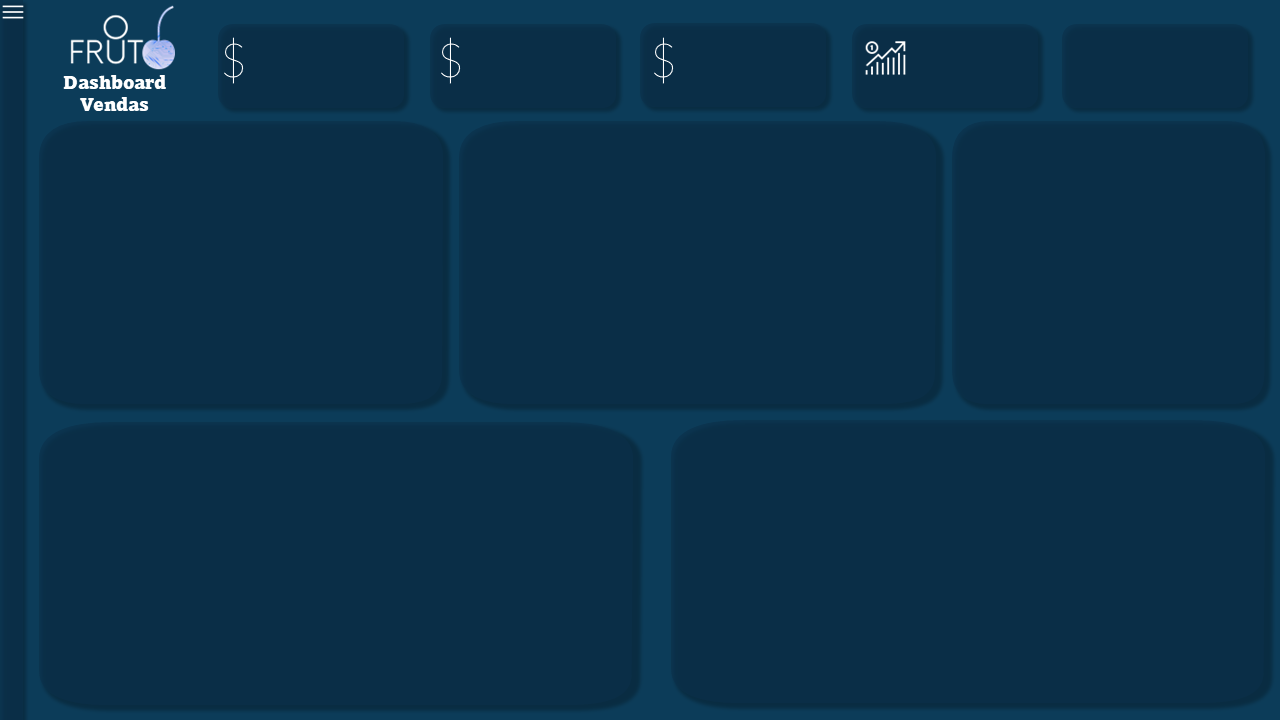

The dashboard page shown, as its layout file describes it:
{"tool":"powerbi","page":{"name":"Dash_geral","canvas":[1280,720],"ordinal":0},"visuals":[{"type":"clusteredBarChart","title":"Top 10 produtos por grupo em volume de vendas","fields":{"Category":["Dim_produtos.Grupo_Produto"],"Y":["Medidas.Total_itens_vendidos"]},"box":[48.1,133.2,385.9,271.9],"z":0},{"type":"clusteredColumnChart","title":"Volume de vendas por linha de produto (Qtd)","fields":{"Y":["Medidas.Volume_vendas"],"Category":["Dim_produtos.Linha_Produto"]},"box":[958.8,133.9,299.1,271.4],"z":1000},{"type":"lineStackedColumnComboChart","title":"Top 5 Grupo de Produtos por lucro em margem de venda (R$)","fields":{"Y":["Sum(Fato_vendas.Lucro_produto)"],"Category":["Dim_produtos.Grupo_Produto"]},"box":[465.7,134.5,465.7,271.4],"z":2000},{"type":"card","fields":{"Values":["Medidas.Faturamento"]},"box":[261.7,21.7,141.1,85.6],"z":3000},{"type":"card","fields":{"Values":["Medidas.Lucro"]},"box":[670.6,21.7,160.4,82],"z":4000},{"type":"kpi","title":"Margem de venda média","fields":{"Indicator":["Avg(Fato_vendas.Margem)"],"Goal":["Medidas.Meta_margem"],"TrendLine":["Tb_calendario.Date.Variation.Hierarquia de datas.Ano"]},"box":[1066.1,25.3,183.3,82],"z":5000},{"type":"card","fields":{"Values":["Medidas.Custo_total"]},"box":[465.5,21.7,152,85.6],"z":6000},{"type":"card","fields":{"Values":["Medidas.Volume_vendas"]},"box":[892.5,21.7,147.1,85.6],"z":7000},{"type":"filledMap","title":"Volume de vendas por região (Qtd)","fields":{"Category":["Dim_regional.Descrição"],"Series":["Dim_regional.Regional"]},"box":[62.7,428.1,554.8,267.7],"z":8000},{"type":"pieChart","title":"Volume de vendas por equipe","fields":{"Category":["Dim_vendedores.Equipe_Vendas"],"Y":["Medidas.Volume_vendas"]},"box":[670.6,436.6,406.4,268.9],"z":9000},{"type":"tableEx","fields":{"Values":["Dim_regional.UF","Medidas.Faturamento"]},"box":[1090.3,436.6,159.2,249.6],"z":10000},{"type":"actionButton","box":[0,0,24.9,21.6],"z":11000},{"type":"actionButton","box":[1249.4,0,30.2,25.3],"z":13000}]}

Visuals, with their boxes in screenshot pixels (x1, y1, x2, y2), scaled from the page's 1280x720 canvas onto the 1280x720 screenshot:
"Top 10 produtos por grupo em volume de vendas" clusteredBarChart: bbox=[48, 133, 434, 405]
"Volume de vendas por linha de produto (Qtd)" clusteredColumnChart: bbox=[959, 134, 1258, 405]
"Top 5 Grupo de Produtos por lucro em margem de venda (R$)" lineStackedColumnComboChart: bbox=[466, 134, 931, 406]
card - Medidas.Faturamento: bbox=[262, 22, 403, 107]
card - Medidas.Lucro: bbox=[671, 22, 831, 104]
"Margem de venda média" kpi: bbox=[1066, 25, 1249, 107]
card - Medidas.Custo_total: bbox=[466, 22, 618, 107]
card - Medidas.Volume_vendas: bbox=[892, 22, 1040, 107]
"Volume de vendas por região (Qtd)" filledMap: bbox=[63, 428, 618, 696]
"Volume de vendas por equipe" pieChart: bbox=[671, 437, 1077, 706]
tableEx - Dim_regional.UF x Medidas.Faturamento: bbox=[1090, 437, 1250, 686]
actionButton: bbox=[0, 0, 25, 22]
actionButton: bbox=[1249, 0, 1279, 25]
